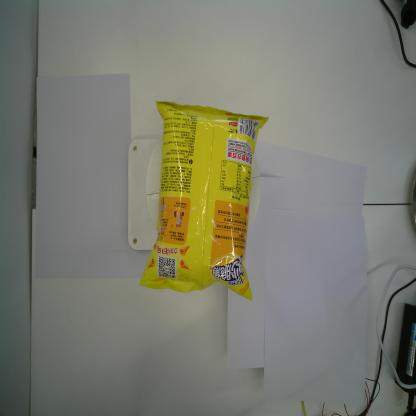Puffed Food: (137, 98, 270, 301)
